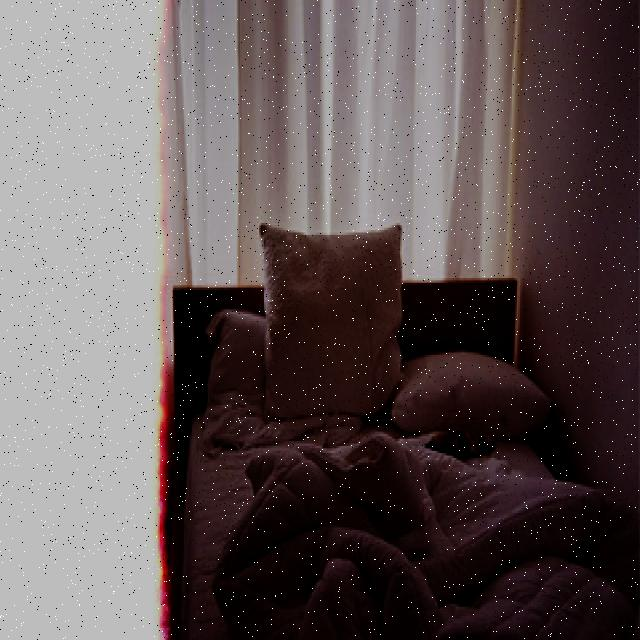bed: (169, 218, 622, 640)
